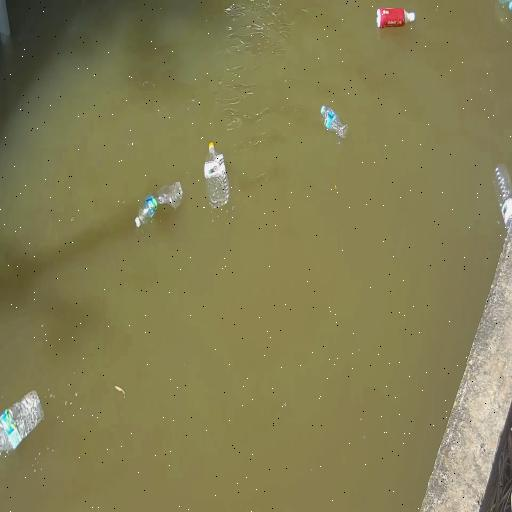plastic: (0, 390, 44, 455), (135, 182, 182, 227), (204, 143, 229, 208), (495, 165, 511, 229), (321, 106, 347, 138), (377, 9, 415, 28)
